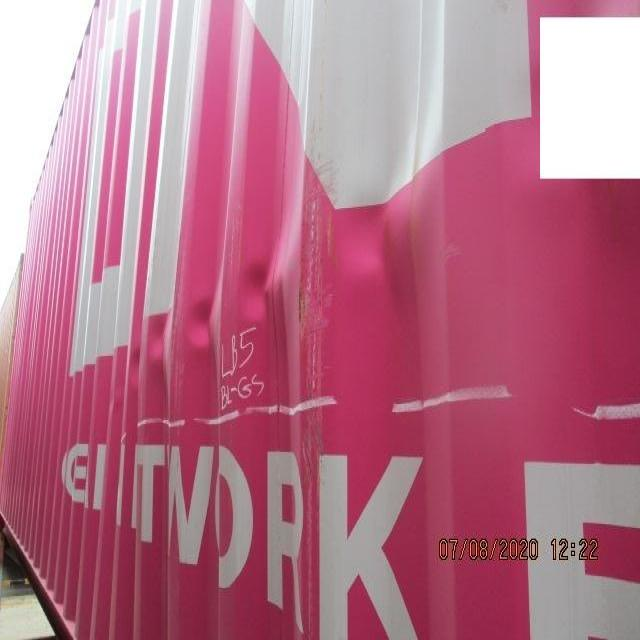dent: (124, 120, 502, 428)
